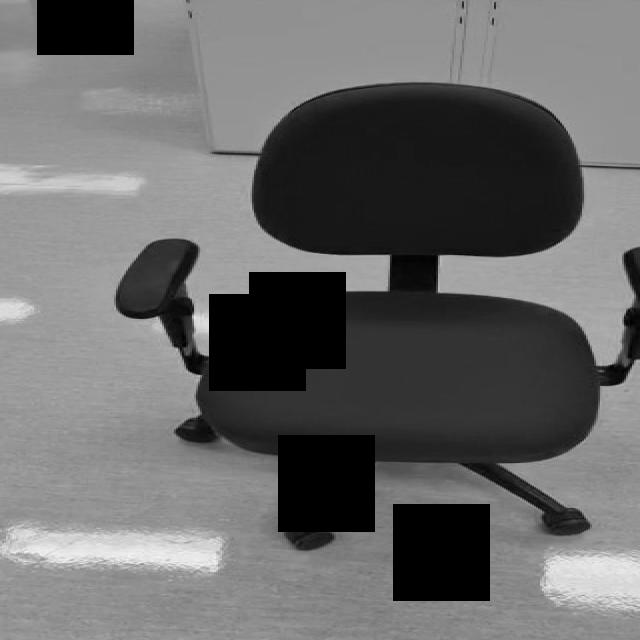cadeira-azul: (112, 82, 640, 550)
